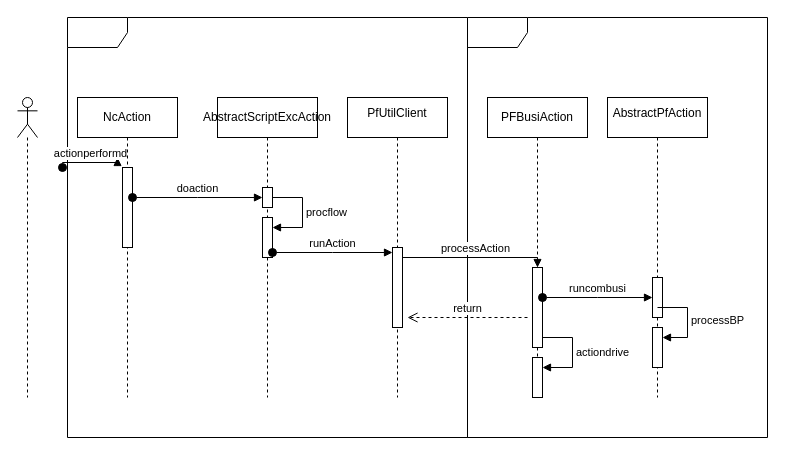
The diagram is 785 pixels wide and 455 high, and some of its shapes have lost their labels. The centre of each missing label's shape, as x and y in pixels:
"client" goes at (267,227).
"private" goes at (617,227).
